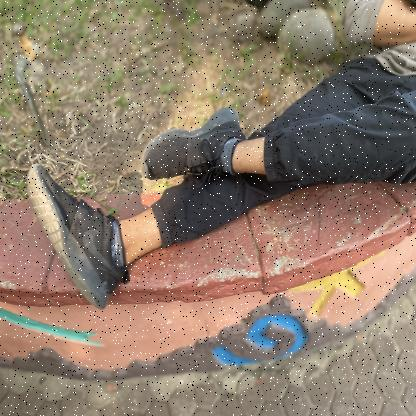leg: (113, 93, 406, 184), (16, 152, 180, 310)
